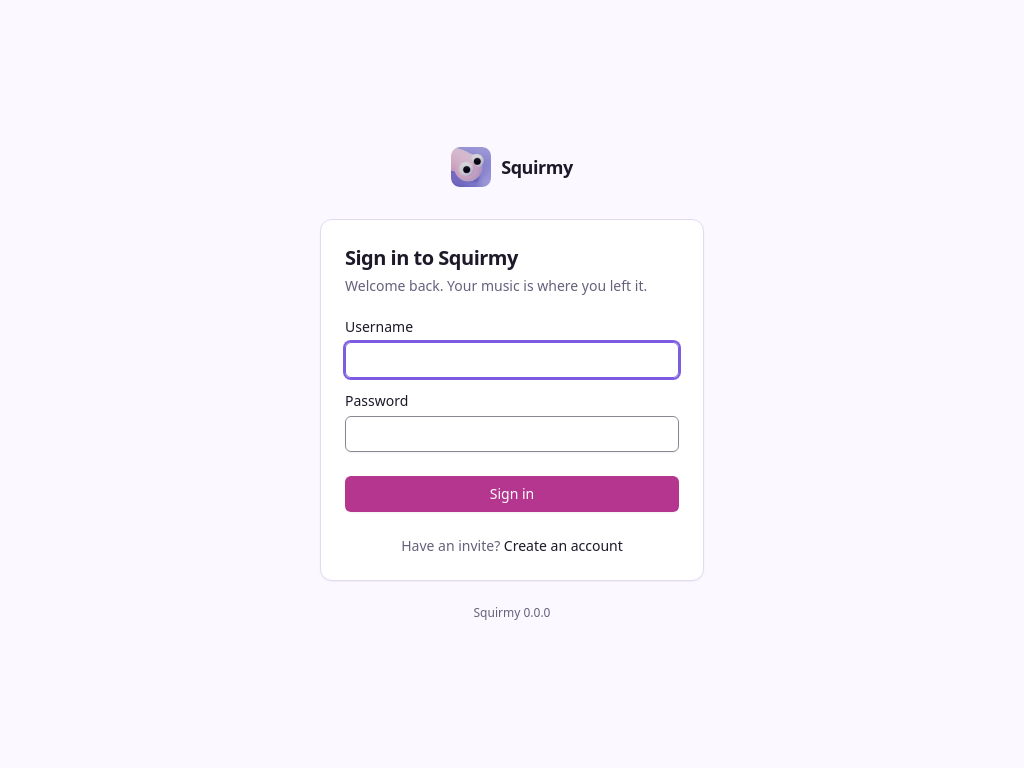
Scenario: route guards › sends signed-out visitors to sign in, remembering where they were going
Check: the heading "Sign in to Squirmy" is shown, box [345, 244, 518, 271]
Check: the text "Squirmy 0.0.0" is shown, box [474, 605, 550, 621]
Step 1. Type "alex" into the field labelled "Username" → {"x": 512, "y": 360}, box [345, 342, 679, 378]
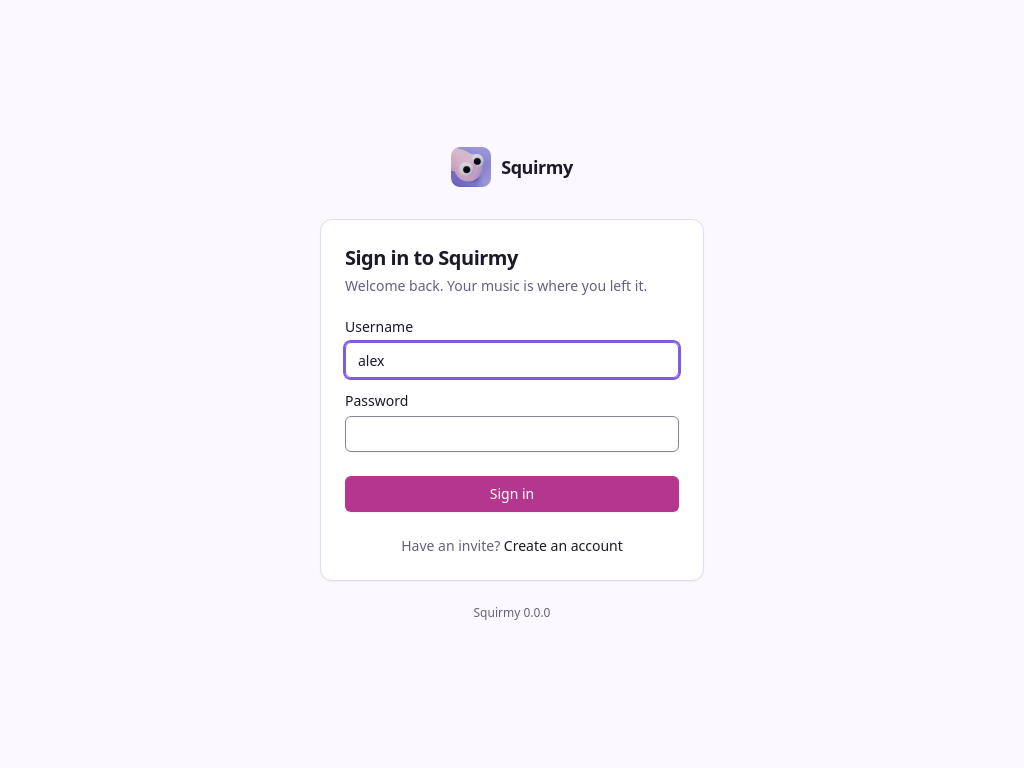
Step 2. Type "wrong" into the password field labelled "Password" → {"x": 512, "y": 434}, box [345, 416, 679, 452]
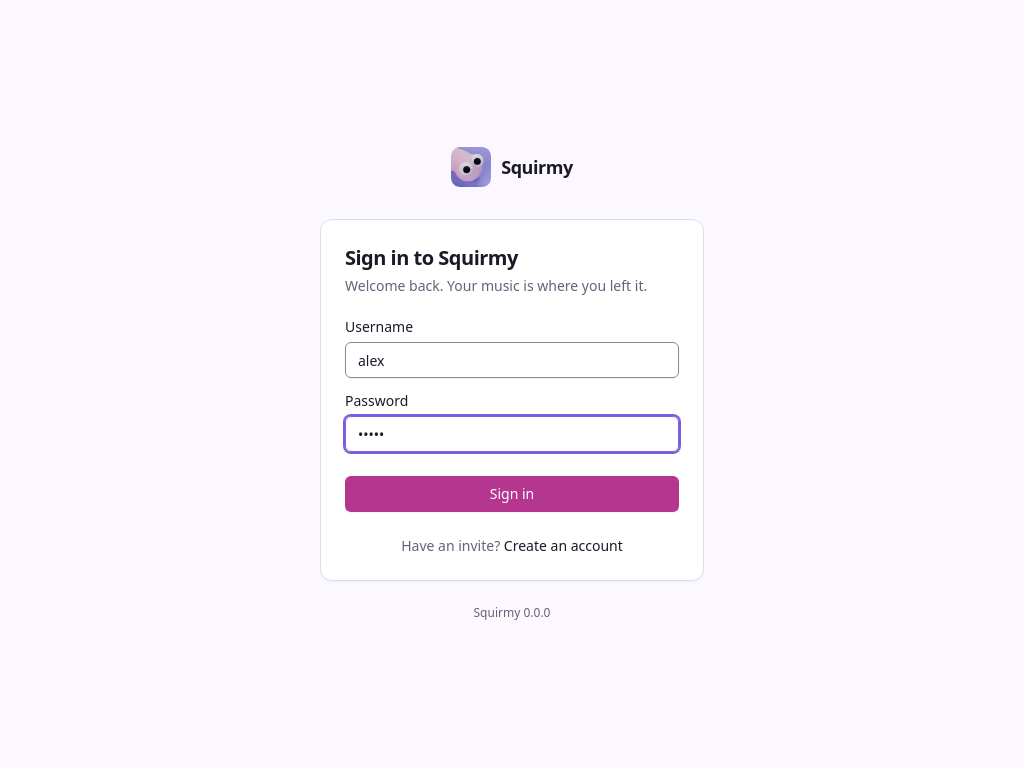
Step 3. Click the button "Sign in" → {"x": 512, "y": 494}, box [345, 476, 679, 512]
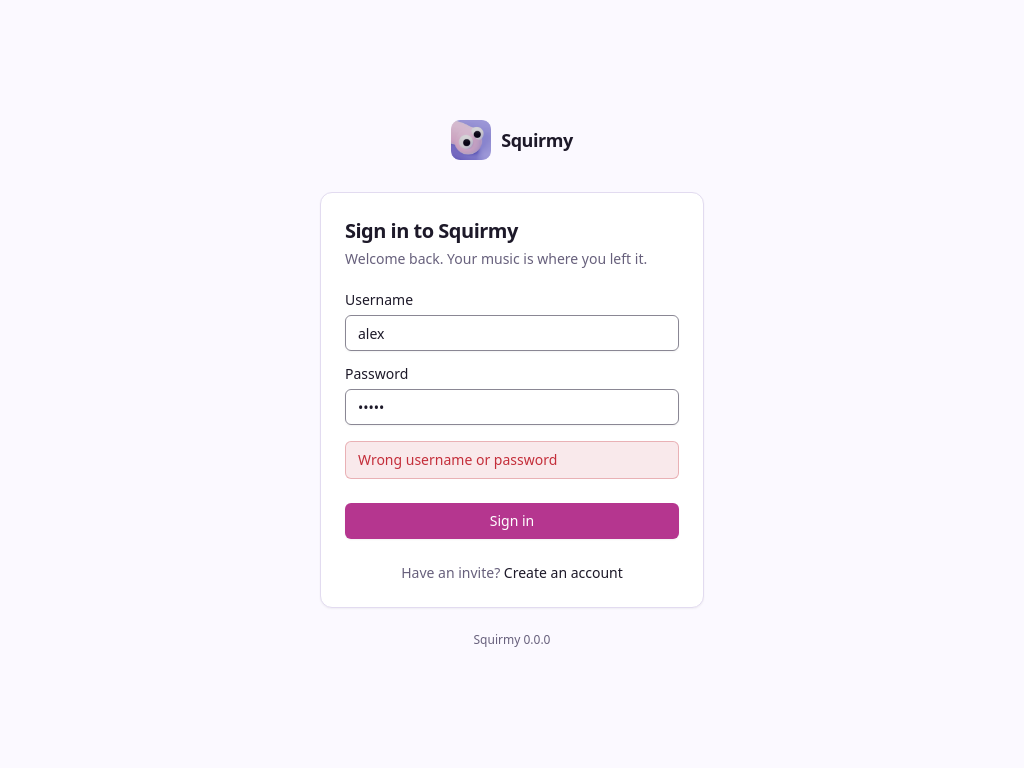
Check: the message reads "Wrong username or password", box [358, 450, 557, 469]
Step 4. Type "right password" into the password field labelled "Password" → {"x": 512, "y": 407}, box [345, 389, 679, 425]
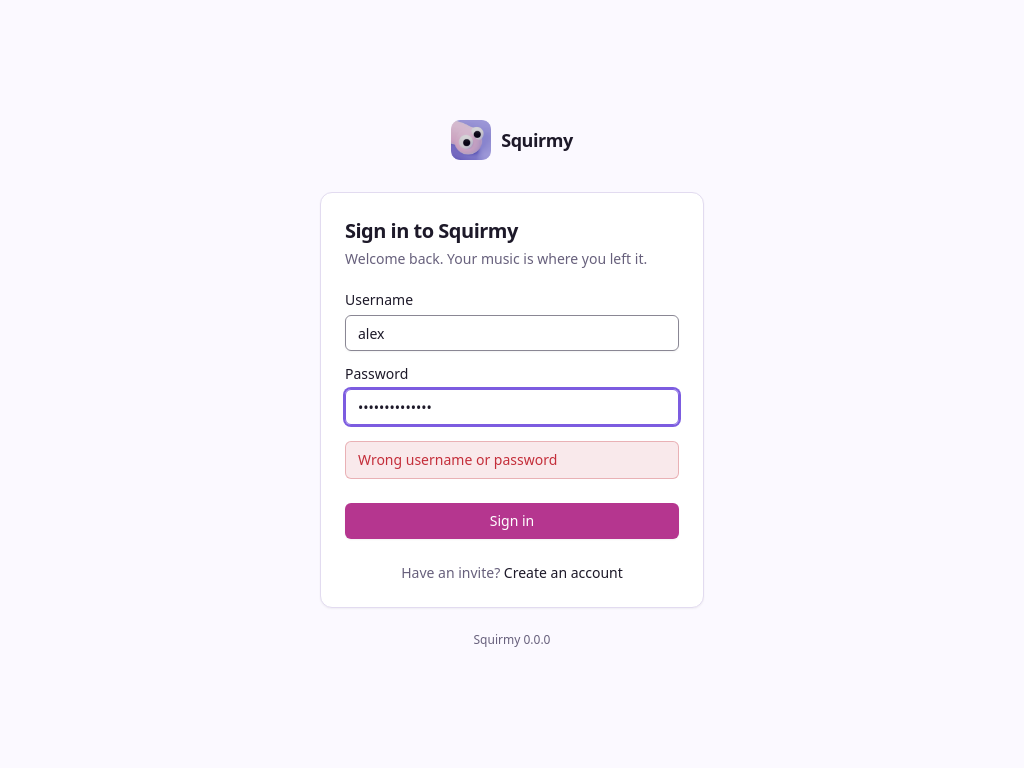
Step 5. Click the button "Sign in" → {"x": 512, "y": 521}, box [345, 503, 679, 539]
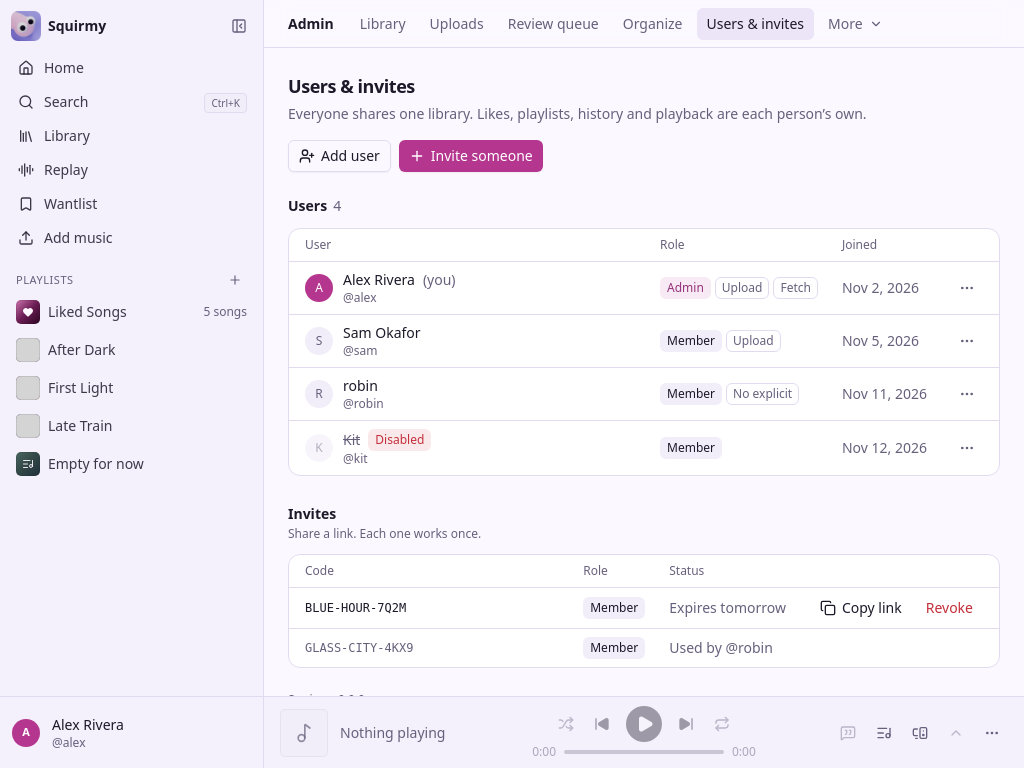
Check: the heading "Users & invites" is shown, box [288, 74, 415, 98]
